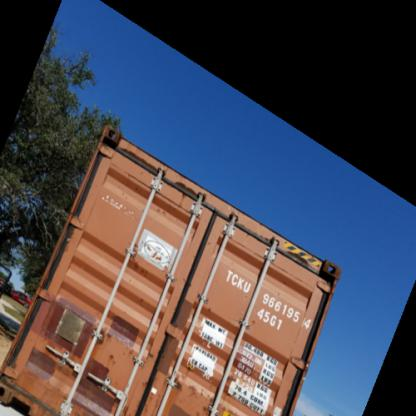Damage: (0, 358, 51, 407), (186, 376, 218, 413), (98, 329, 121, 368)
